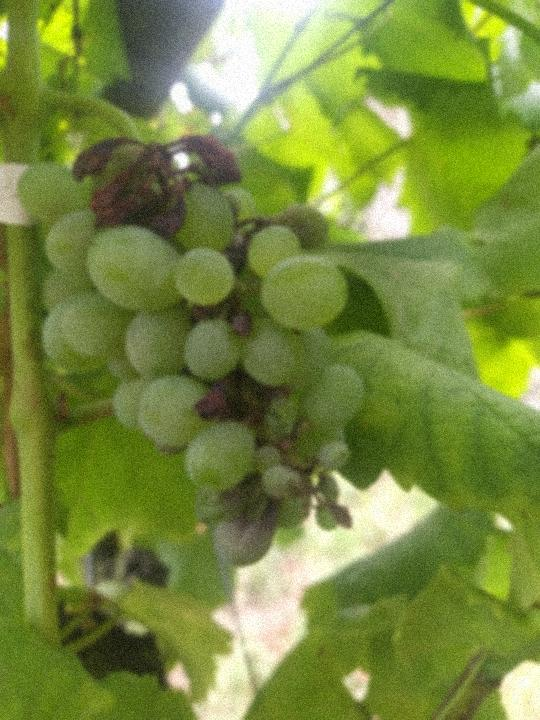grape: (15, 129, 369, 570)
